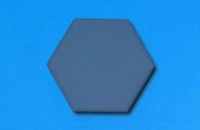blue: (48, 19, 156, 113)
